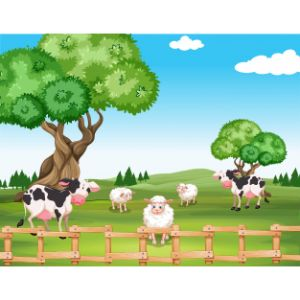cow: (19, 176, 100, 227), (212, 168, 273, 213)
sheep: (141, 193, 175, 246), (107, 184, 135, 214), (176, 180, 201, 206)
